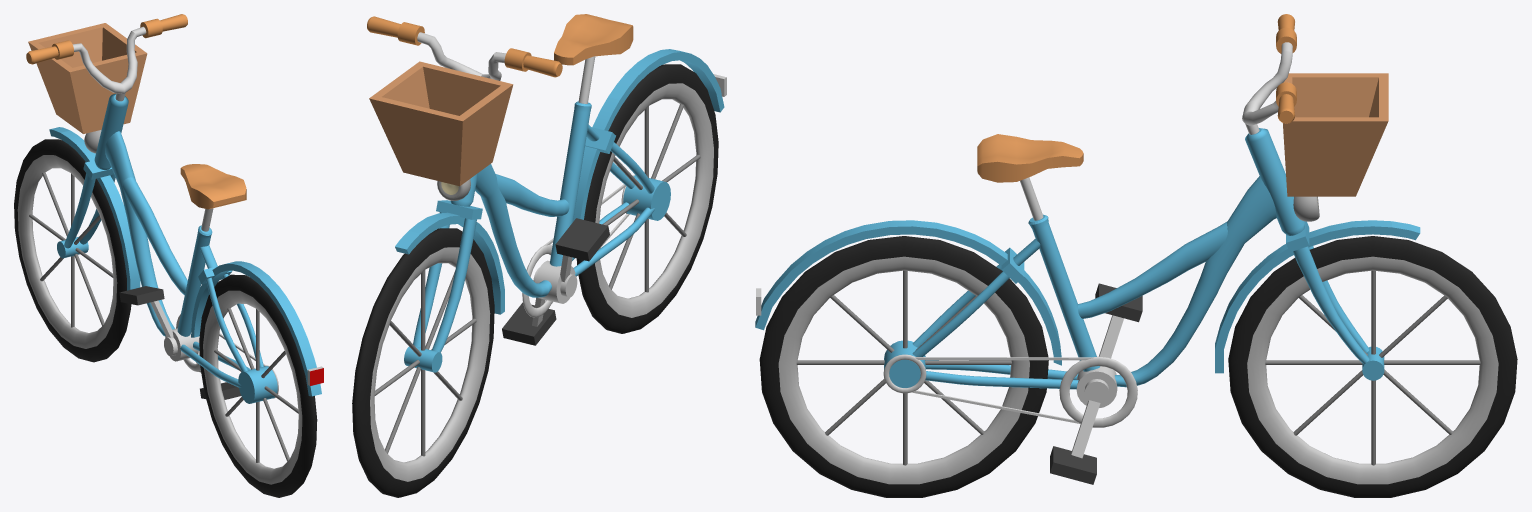
Rendered from Bicycle.fbx.
3 renders of one model, left to right at view 1: azimuth 30°, elevation 25°; view 2: azimuth 150°, elevation 25°; view 3: azimuth 270°, elevation 25°, orthographic. The views are drawn at different scales.
Visible parts, largest first — view 1: side1; view 2: side1; view 3: side1.
Part boxes in pixels (x1,y1,x2,y2): side1: (14,14,323,497); side1: (352,14,726,497); side1: (755,14,1517,497).
Bounding box in the file's own units: 1.64 × 3.46 × 5.46.
